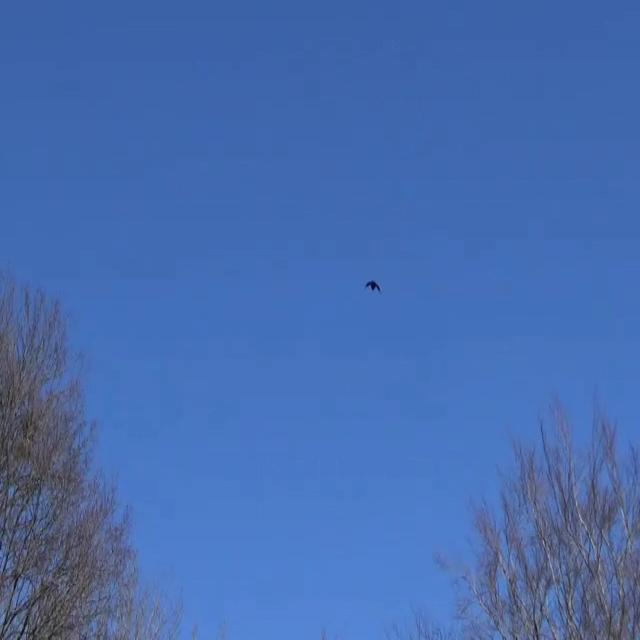bird: (363, 275, 386, 300)
